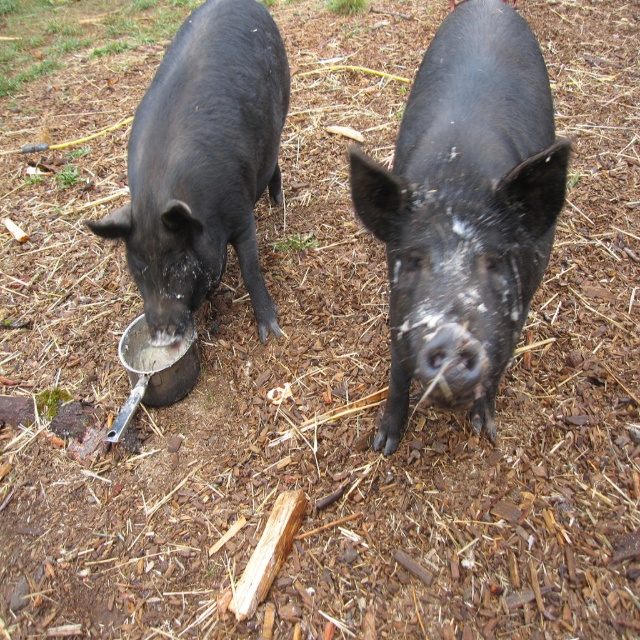Pig: (347, 0, 573, 453), (81, 0, 292, 346)
